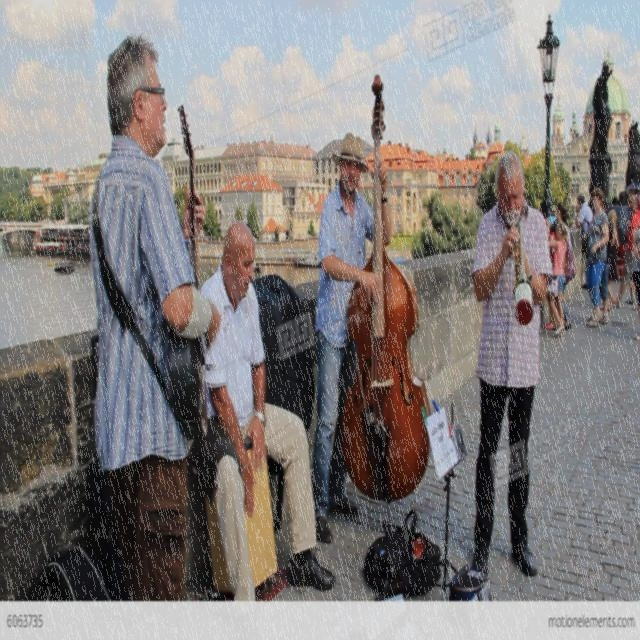pessoa: (86, 30, 220, 640), (187, 216, 337, 640), (468, 148, 552, 582), (310, 130, 394, 546), (583, 188, 610, 328), (610, 194, 640, 311), (546, 216, 570, 338), (553, 202, 575, 330), (543, 214, 560, 330), (598, 195, 612, 326), (624, 194, 640, 306), (606, 209, 620, 312), (632, 223, 640, 342), (575, 193, 594, 234), (42, 226, 90, 238), (610, 190, 628, 210), (36, 244, 62, 254)
